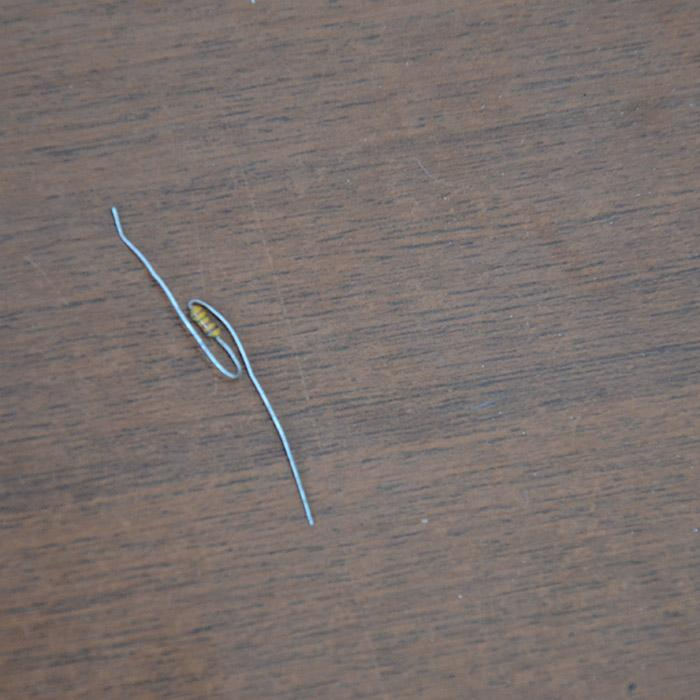resistor: (185, 304, 224, 340)
